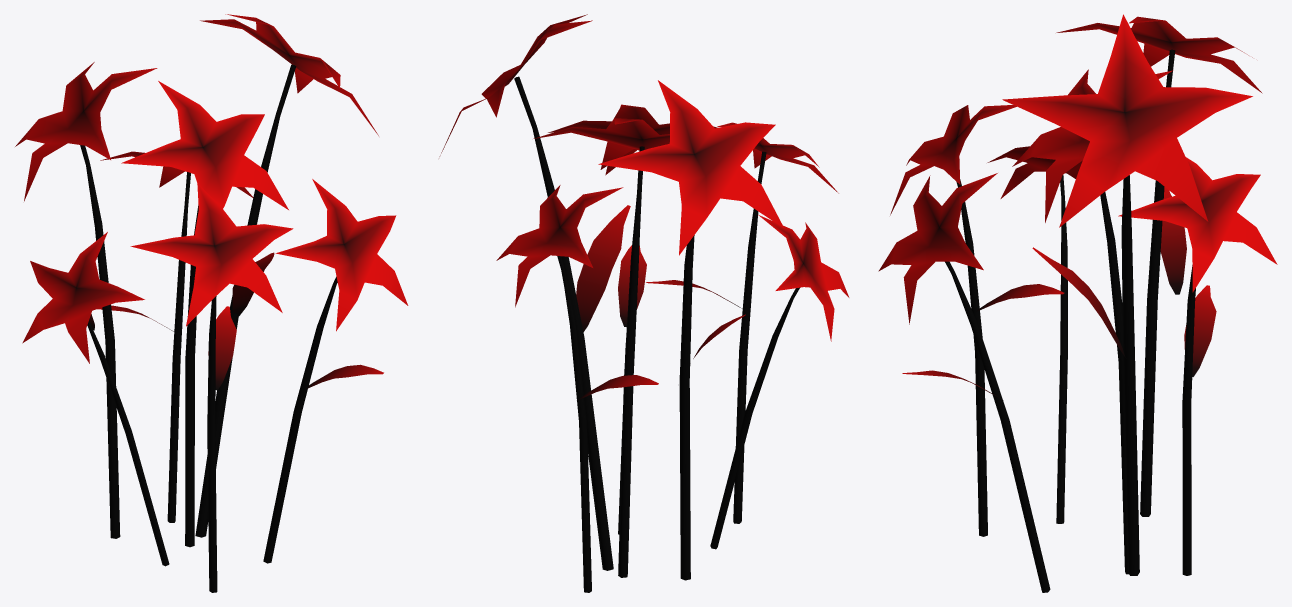
File: Flower_02.fbx
3 views of the same model, side by side, from view 1: azimuth 30°, elevation 25°; view 2: azimuth 150°, elevation 25°; view 3: azimuth 270°, elevation 25° (orthographic). The views are drawn at different scales.
Parts seen in each view (by area): view 1: Flower_02; view 2: Flower_02; view 3: Flower_02.
Part boxes in pixels (left/top/right/bottom): Flower_02: left=15, top=14, right=408, bottom=592; Flower_02: left=439, top=14, right=849, bottom=592; Flower_02: left=878, top=14, right=1277, bottom=592.
Size of the model in its own units: 137 by 200 by 126.
